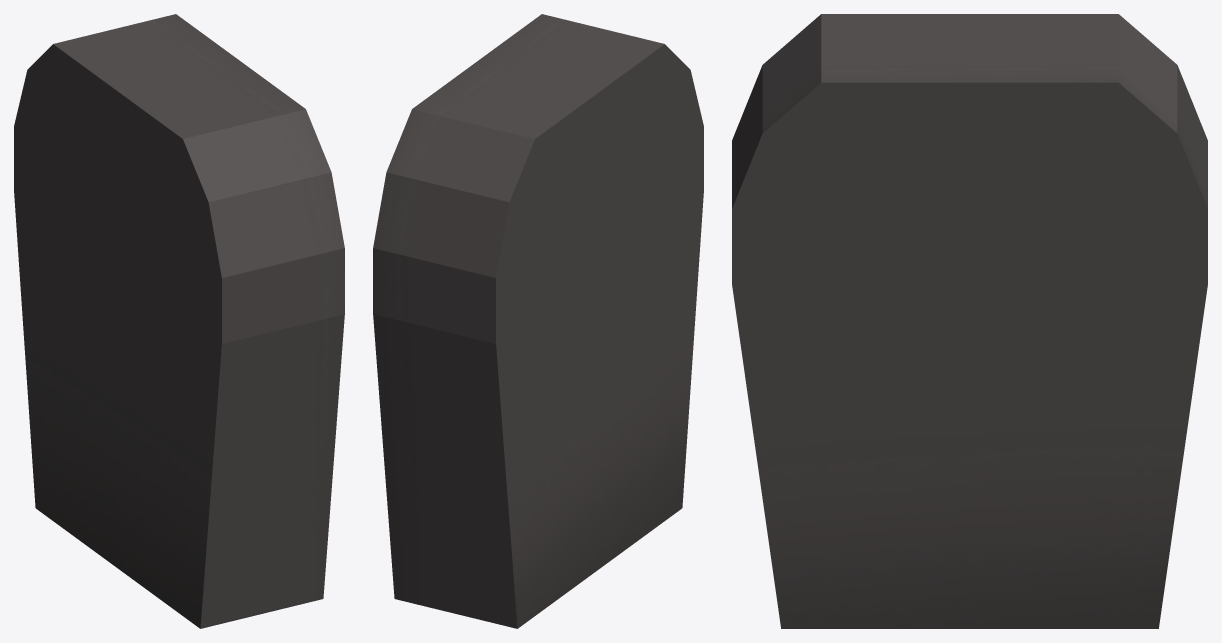
File: F_Gravestone_1.fbx
3 views of the same model, side by side, from view 1: azimuth 30°, elevation 25°; view 2: azimuth 150°, elevation 25°; view 3: azimuth 270°, elevation 25° (orthographic). The views are drawn at different scales.
Parts seen in each view (by area): view 1: F_Gravestone_1; view 2: F_Gravestone_1; view 3: F_Gravestone_1.
Part boxes in pixels (box(x1,y1,x2,y2)): F_Gravestone_1: box(14, 14, 344, 628); F_Gravestone_1: box(373, 14, 703, 628); F_Gravestone_1: box(732, 14, 1207, 628).
Bounding box in the file's own units: 0.8918 × 1.13 × 0.3047.
Materials: 1 (1 with a texture image).
